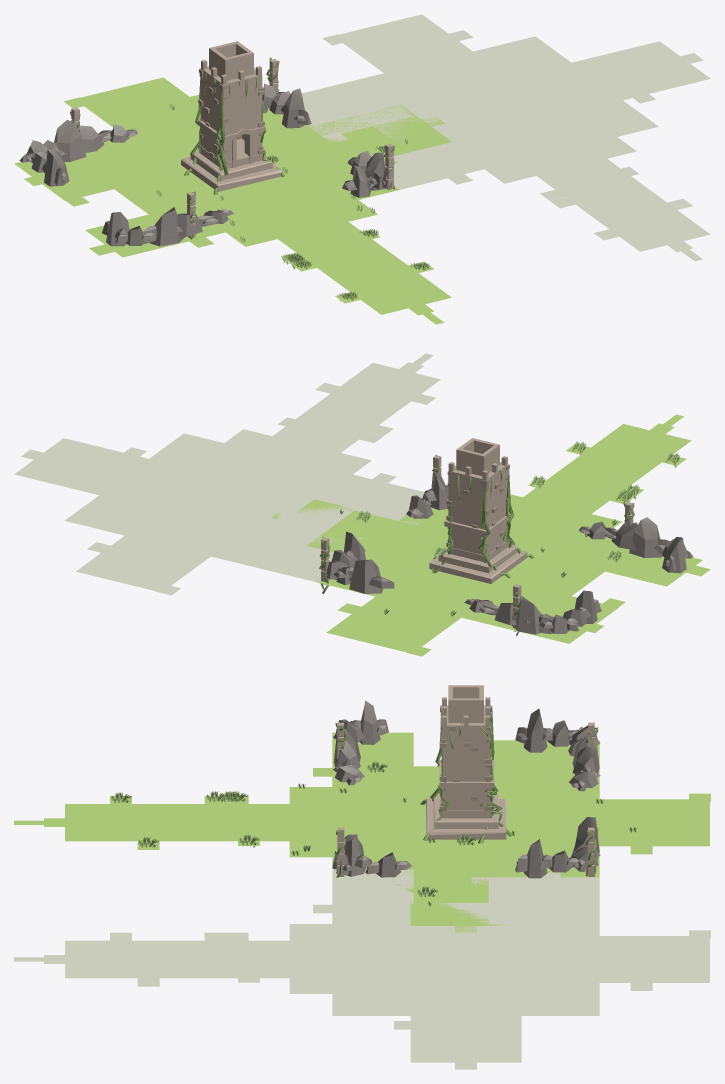
Rendered from planeGround5.glb.
The picture shows the model from 3 angles, top to bottom: view 1: azimuth 30°, elevation 25°; view 2: azimuth 150°, elevation 25°; view 3: azimuth 270°, elevation 25°; orthographic projection. The views are drawn at different scales.
Visible parts, largest first — view 1: Object_7, Object_7.001, Object_3, Object_9, Object_11, Object_4, Object_2; view 2: Object_7, Object_7.001, Object_9, Object_3, Object_11, Object_4, Object_2; view 3: Object_7, Object_7.001, Object_3, Object_9, Object_11, Object_4, Object_2.
Boxes of the visible parts, x1,y1,x2,y2 form: Object_7: [301, 14, 710, 261]; Object_7.001: [14, 77, 451, 324]; Object_3: [71, 41, 393, 238]; Object_9: [19, 83, 393, 246]; Object_11: [70, 57, 395, 239]; Object_4: [131, 104, 385, 301]; Object_2: [198, 68, 264, 163]; Object_7: [14, 353, 440, 595]; Object_7.001: [271, 414, 710, 656]; Object_9: [319, 471, 693, 634]; Object_3: [321, 438, 633, 628]; Object_11: [319, 455, 634, 635]; Object_4: [356, 452, 679, 616]; Object_2: [446, 464, 509, 555]; Object_7: [14, 867, 710, 1069]; Object_7.001: [14, 732, 710, 932]; Object_3: [337, 685, 594, 876]; Object_9: [332, 700, 600, 878]; Object_11: [335, 706, 598, 877]; Object_4: [110, 762, 636, 897]; Object_2: [439, 705, 491, 810].
Size of the model in its own units: 40.22 by 8.67 by 34.3.
